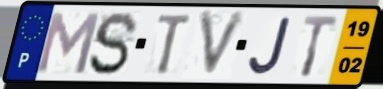J: (247, 15, 294, 77)
M: (34, 10, 103, 77)
S: (85, 10, 141, 78)
T: (299, 14, 341, 79), (155, 12, 195, 77)
V: (197, 9, 251, 81)
